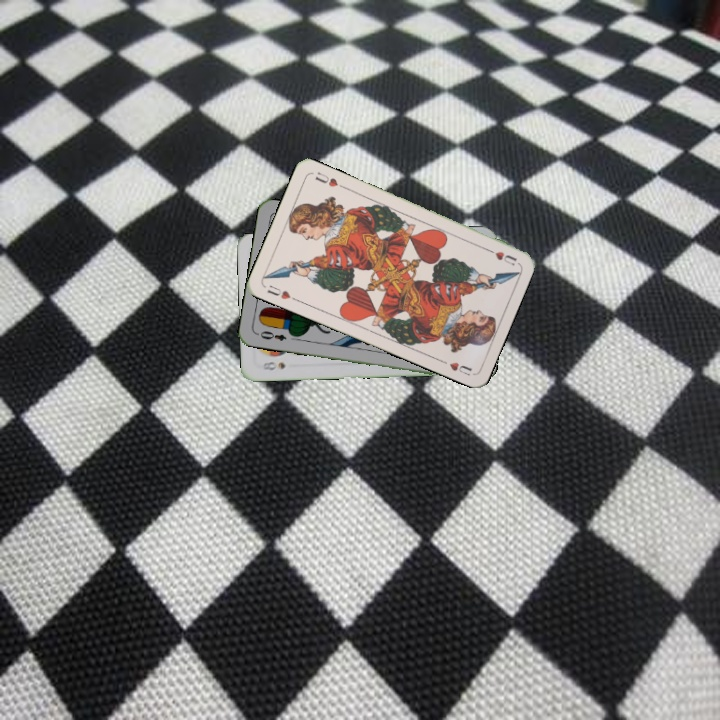EO: (256, 327, 289, 344)
HU: (481, 244, 519, 268), (263, 281, 300, 304)
S8: (259, 357, 288, 373)
